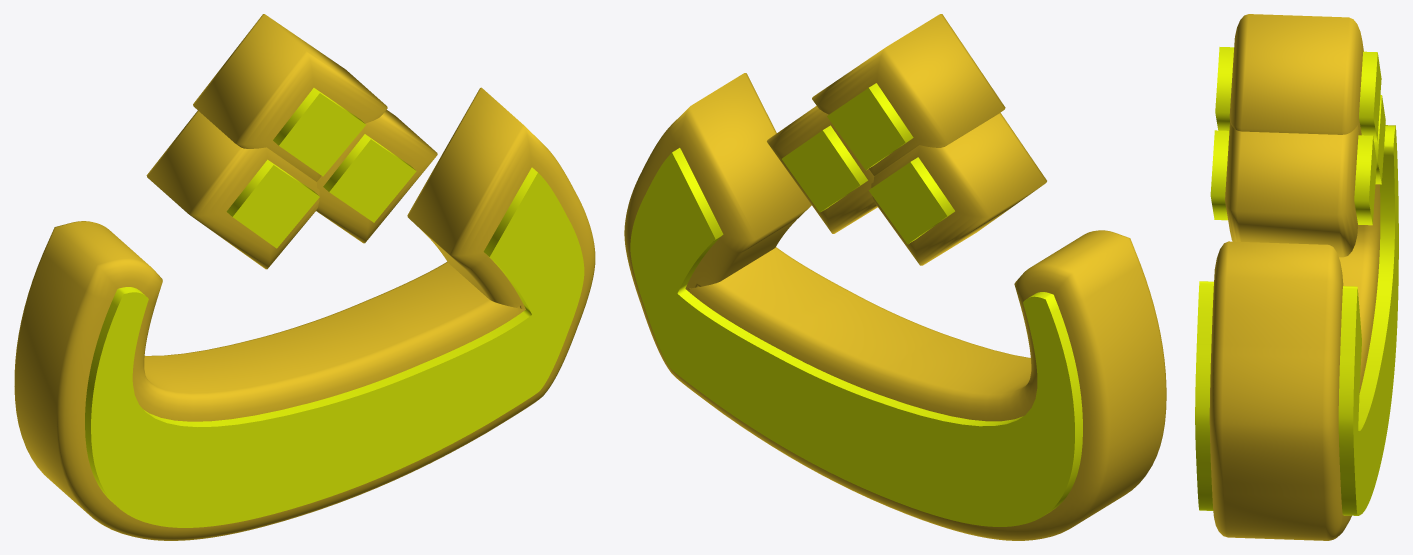
3 renders of one model, left to right at view 1: azimuth 30°, elevation 25°; view 2: azimuth 150°, elevation 25°; view 3: azimuth 270°, elevation 25°, orthographic. The views are drawn at different scales.
Parts seen in each view (by area): view 1: text 2, Text; view 2: text 2, Text; view 3: text 2, Text.
Part boxes in pixels (left/top/right/bottom): text 2: left=14, top=14, right=595, bottom=540; Text: left=85, top=88, right=584, bottom=527; text 2: left=624, top=14, right=1166, bottom=540; Text: left=630, top=83, right=1082, bottom=526; text 2: left=1209, top=14, right=1380, bottom=540; Text: left=1195, top=47, right=1398, bottom=515.
Size of the model in its own units: 48.01 by 41.15 by 15.61.
